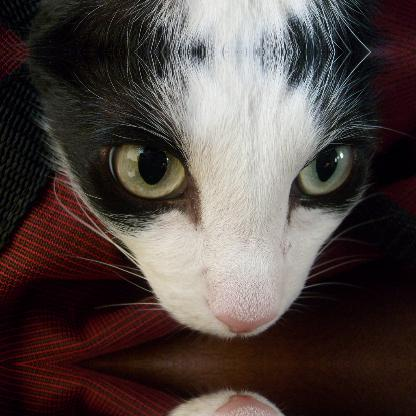Cat: (15, 52, 415, 348)
